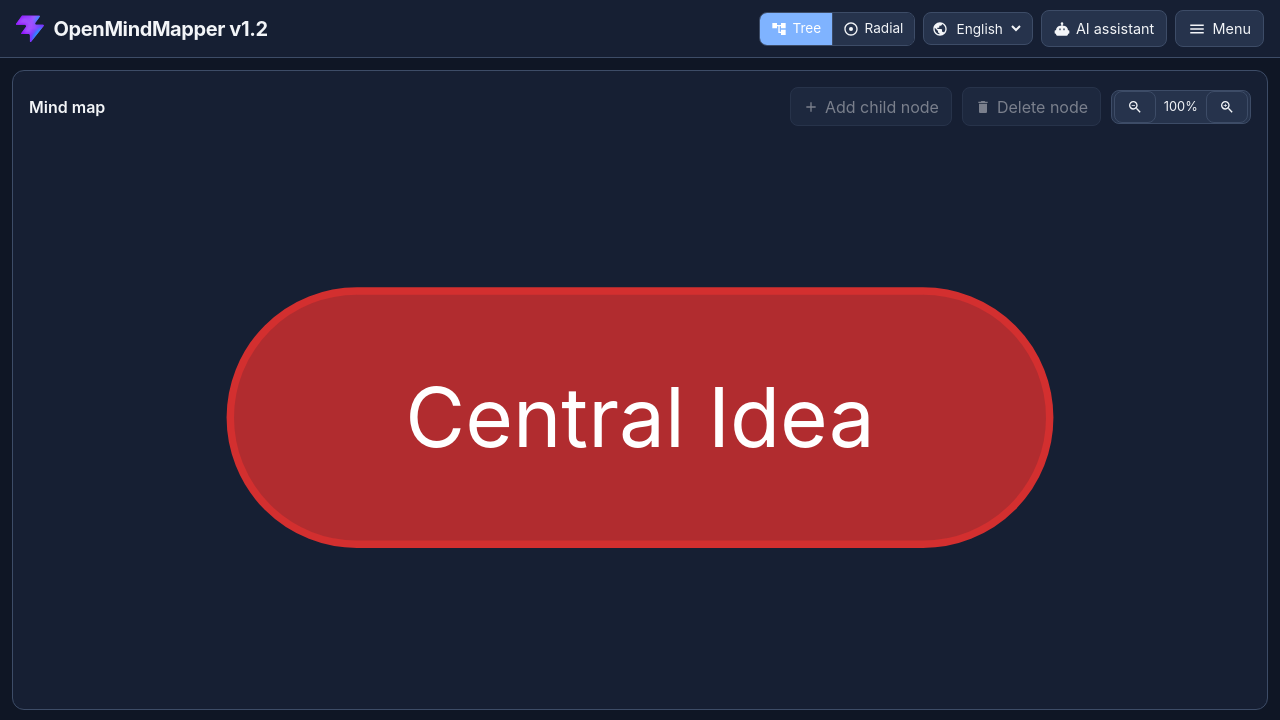
Scenario: App › switches to spanish labels
Select "Español" in the dropdown named "Language" at (988, 29), box [952,13,1024,44]
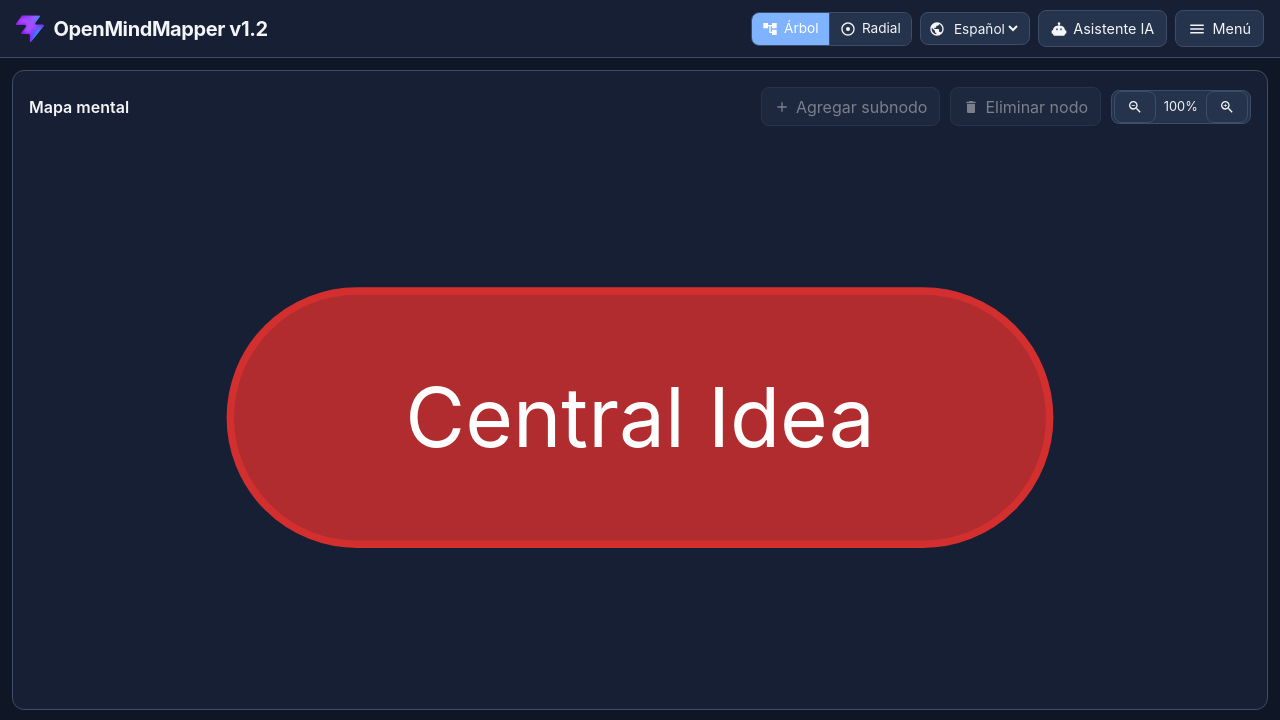
Expected: the button "Menú" is shown, [1175,10,1264,47]
Expected: the button "Agregar subnodo" is shown, [761,87,940,126]
